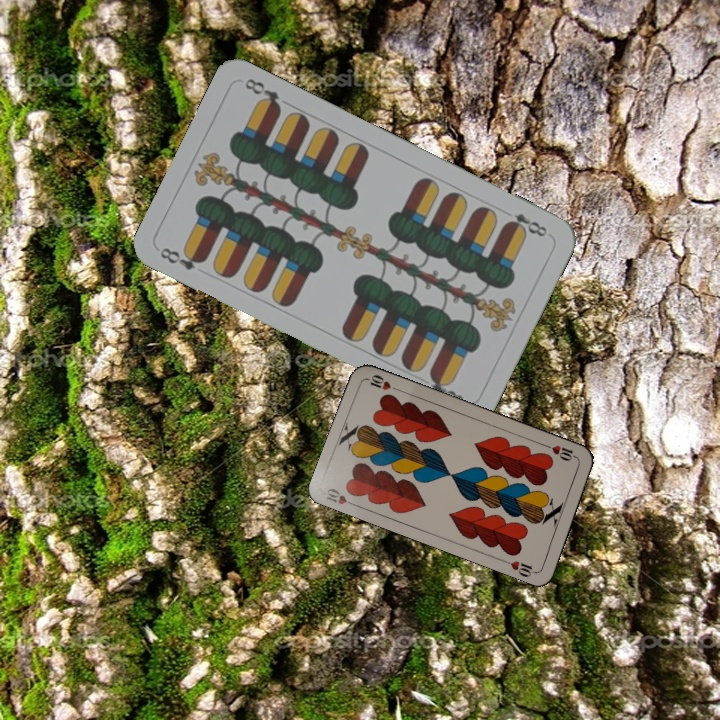E8: (155, 243, 209, 273), (501, 209, 550, 240)
H10: (322, 484, 360, 510), (541, 440, 580, 464)
